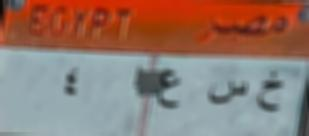4: (59, 65, 83, 100)
ain: (153, 65, 184, 113)
khaa: (255, 67, 284, 116)
seen: (205, 75, 251, 108)
